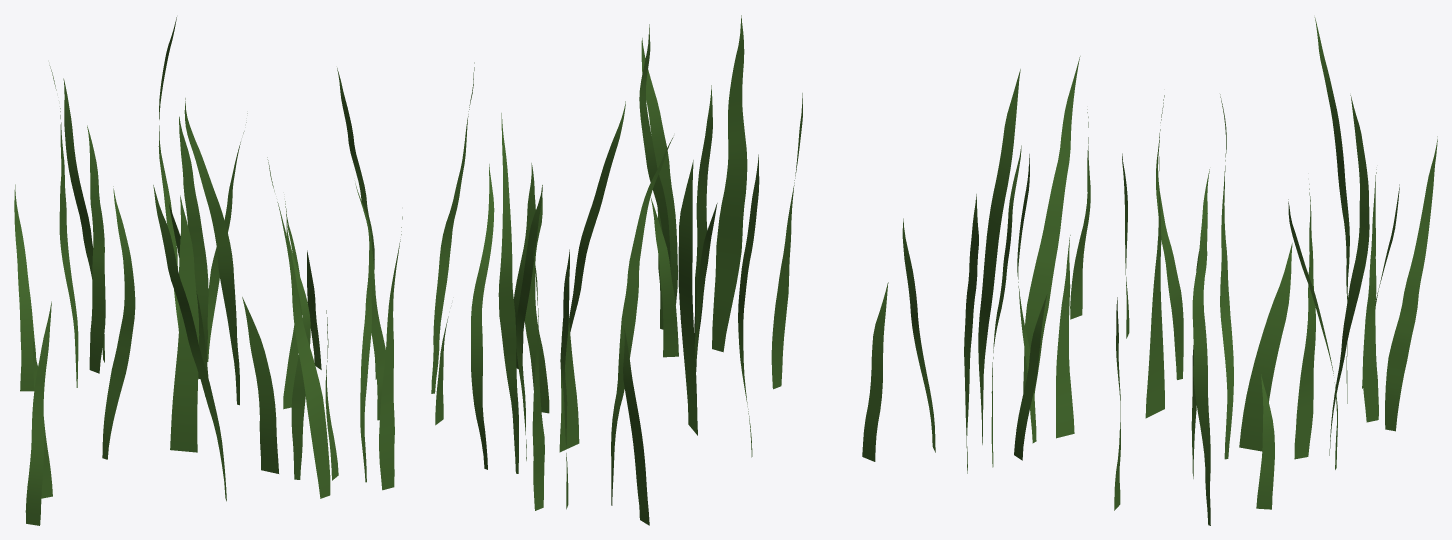
File: plant_swamp_kelp_giant_C_light.fbx
The picture shows the model from 3 angles, left to right: view 1: azimuth 30°, elevation 25°; view 2: azimuth 150°, elevation 25°; view 3: azimuth 270°, elevation 25°; orthographic projection. The views are drawn at different scales.
Parts seen in each view (by area): view 1: plant_swamp_kelp_giant_C_light; view 2: plant_swamp_kelp_giant_C_light; view 3: plant_swamp_kelp_giant_C_light.
Part boxes in pixels (bbox=[...]): plant_swamp_kelp_giant_C_light: bbox=[14, 17, 402, 525]; plant_swamp_kelp_giant_C_light: bbox=[431, 15, 935, 525]; plant_swamp_kelp_giant_C_light: bbox=[964, 17, 1437, 525].
Bounding box in the file's own units: 577 × 472 × 548.
